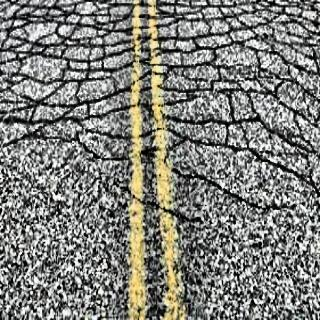alligator-crack: (2, 1, 320, 210)
